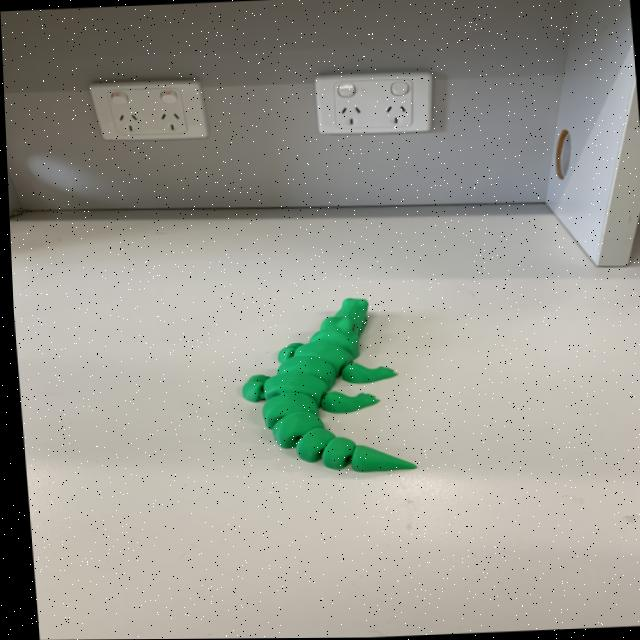crocodile: (227, 284, 424, 501)
